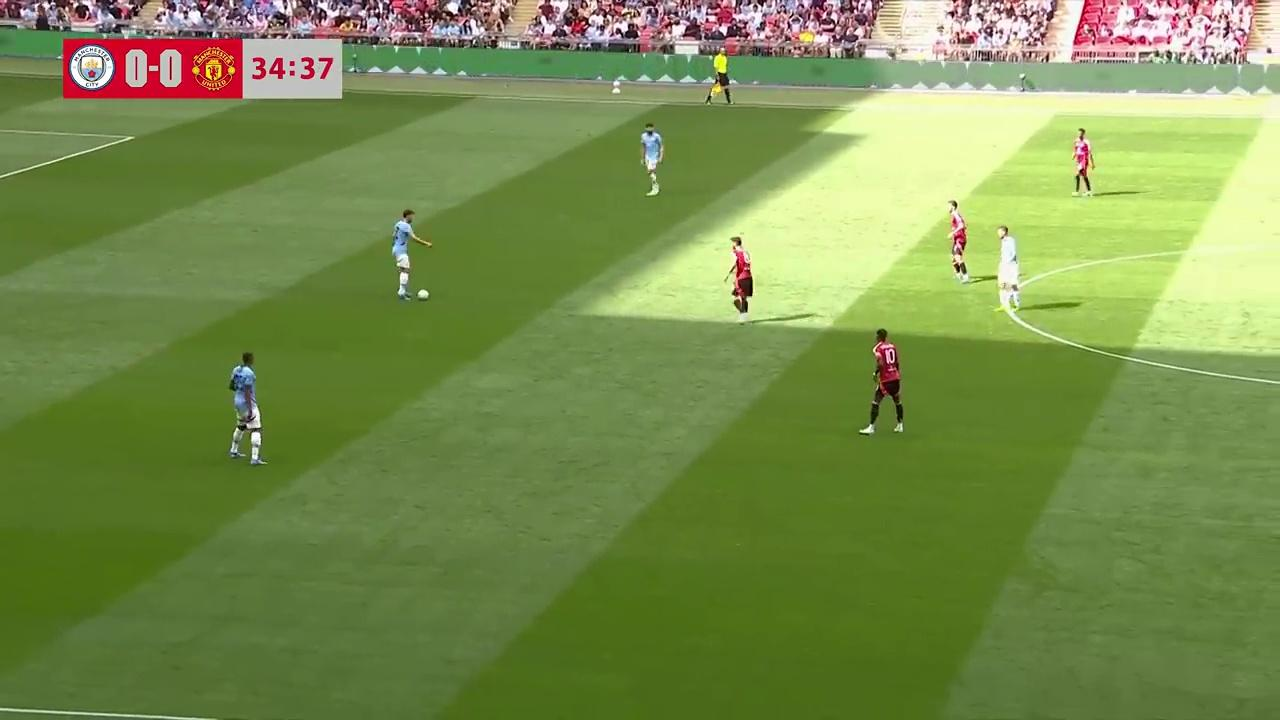ball: (417, 286, 430, 300)
player: (859, 328, 904, 435), (227, 352, 267, 466), (391, 208, 433, 301), (725, 234, 753, 323), (997, 225, 1021, 317), (947, 199, 970, 283), (1071, 128, 1096, 197), (641, 124, 663, 195)
referee: (705, 43, 734, 105)
